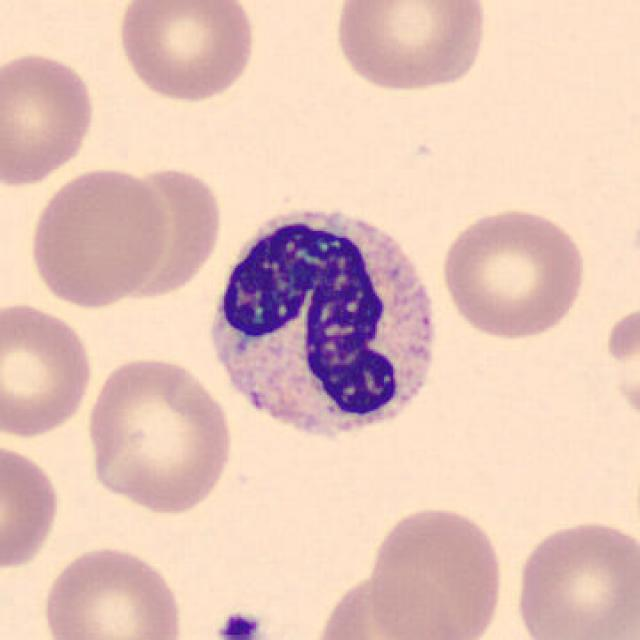Neutrophil: (196, 194, 448, 457)
Platelets: (213, 608, 267, 640)
RBC: (82, 352, 236, 516), (23, 164, 173, 310), (438, 203, 588, 342), (364, 500, 506, 640), (102, 162, 230, 302), (508, 515, 638, 640), (112, 0, 260, 106), (330, 0, 490, 95), (39, 541, 187, 640), (0, 48, 100, 190), (0, 298, 96, 442), (307, 567, 460, 640), (0, 437, 64, 575), (602, 292, 640, 439)
